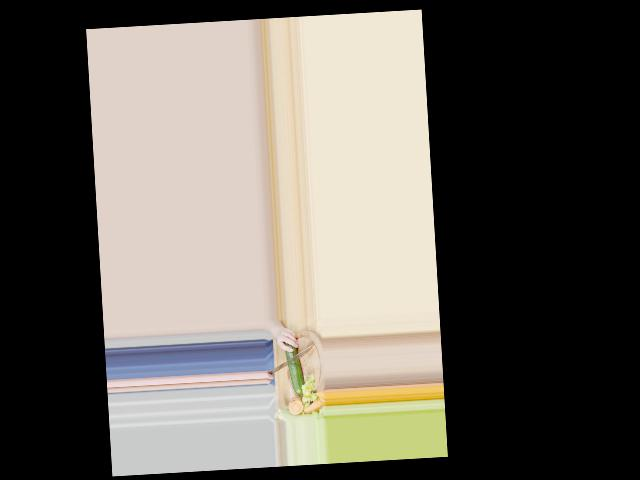cucumber: (284, 341, 304, 396)
